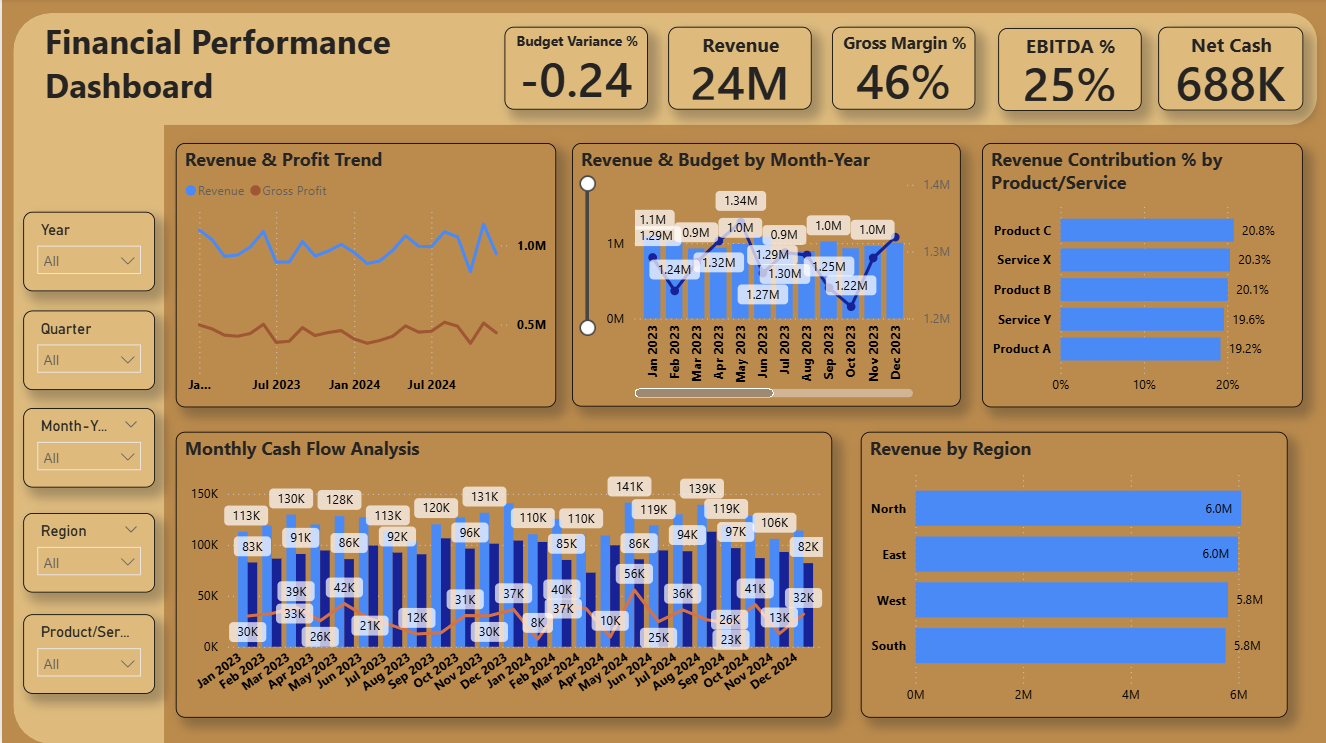

This screenshot's page, from the dashboard's own definition file:
{"tool":"powerbi","page":{"name":"Page 1","canvas":[1280,720],"ordinal":0},"visuals":[{"type":"shape","box":[10.8,14.9,145.9,705.4],"z":0},{"type":"shape","box":[154.1,14.9,1114.9,108.1],"z":1},{"type":"card","title":"Revenue","fields":{"Values":["Calendar.Revenue"]},"box":[502.7,18.9,168.9,98.6],"z":2},{"type":"card","title":"Gross Margin %","fields":{"Values":["Calendar.Gross Margin %"]},"box":[700,18.9,168.9,98.6],"z":3},{"type":"card","title":"EBITDA %","fields":{"Values":["Calendar.EBITDA %"]},"box":[897.3,18.9,168.9,98.6],"z":4},{"type":"card","title":"Net Cash","fields":{"Values":["Calendar.Net Cash"]},"box":[1086.5,18.9,168.9,98.6],"z":5},{"type":"slicer","fields":{"Values":["Calendar.Year"]},"box":[20.3,206.8,127,77],"z":6},{"type":"slicer","fields":{"Values":["Calendar.Quarter"]},"box":[20.3,301.4,127,77],"z":7},{"type":"slicer","fields":{"Values":["Calendar.Month-Year"]},"box":[20.3,395.9,127,77],"z":8},{"type":"slicer","fields":{"Values":["Finance.Region"]},"box":[20.3,497.3,127,77],"z":9},{"type":"slicer","fields":{"Values":["Finance.Product/Service"]},"box":[20.3,594.6,127,77],"z":10},{"type":"lineChart","title":"Revenue & Profit Trend","fields":{"Y2":["Calendar.Revenue","Calendar.Gross Profit"],"Category":["Finance.Month"]},"box":[167.6,140.5,367.6,255.4],"z":11},{"type":"clusteredColumnChart","title":"Budget vs Actual ","fields":{"Category":["Finance.Month"],"Y":["Calendar.Revenue","Calendar.Budget"]},"box":[560.8,140.5,354.1,255.4],"z":12},{"type":"hundredPercentStackedBarChart","fields":{"Category":["Finance.Product/Service"],"Y":["Calendar.Revenue"]},"box":[945.9,140.5,309.5,255.4],"z":13},{"type":"lineClusteredColumnComboChart","title":"Cash Flow Waterfall","fields":{"Category":["Finance.Month"],"Y":["Calendar.Cash Inflows","Calendar.Cash Outflows"],"Y2":["Calendar.Net Cash"]},"box":[167.6,418.9,633.8,275.7],"z":15},{"type":"hundredPercentStackedBarChart","title":"Receivables Aging","fields":{"Category":["Finance.Region"],"Y":["Calendar.Avg Receivable Days"]},"box":[828.4,418.9,412.2,275.7],"z":16},{"type":"textbox","box":[36.5,14.9,448.6,108.1],"z":17}]}

Visuals, with their boxes in screenshot pixels (x1, y1, x2, y2), scaled from the page's 1280x720 canvas onto the 1326x743 screenshot:
shape: box(11, 15, 162, 742)
shape: box(160, 15, 1315, 127)
"Revenue" card: box(521, 20, 696, 121)
"Gross Margin %" card: box(725, 20, 900, 121)
"EBITDA %" card: box(930, 20, 1105, 121)
"Net Cash" card: box(1126, 20, 1301, 121)
slicer - Calendar.Year: box(21, 213, 153, 293)
slicer - Calendar.Quarter: box(21, 311, 153, 390)
slicer - Calendar.Month-Year: box(21, 409, 153, 488)
slicer - Finance.Region: box(21, 513, 153, 593)
slicer - Finance.Product/Service: box(21, 614, 153, 693)
"Revenue & Profit Trend" lineChart: box(174, 145, 554, 409)
"Budget vs Actual " clusteredColumnChart: box(581, 145, 948, 409)
hundredPercentStackedBarChart - Finance.Product/Service x Calendar.Revenue: box(980, 145, 1301, 409)
"Cash Flow Waterfall" lineClusteredColumnComboChart: box(174, 432, 830, 717)
"Receivables Aging" hundredPercentStackedBarChart: box(858, 432, 1285, 717)
textbox: box(38, 15, 503, 127)
